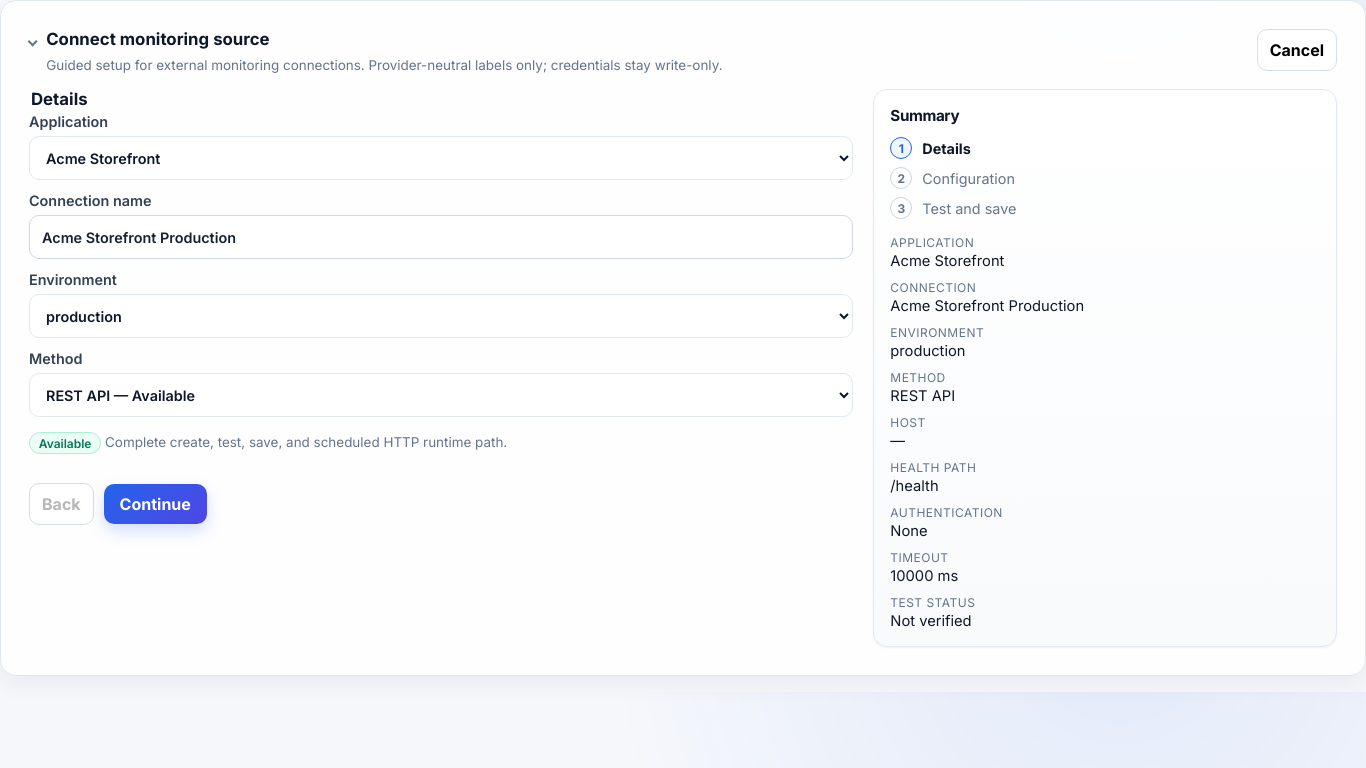
Test case: ConnectionWizard › shows REST fields on configuration and keeps advanced details collapsed
Expected: the element with test id "connection-step-details" is shown, [29, 89, 853, 467]
Click the button "Continue". click: (155,504)
box: [104, 484, 207, 524]
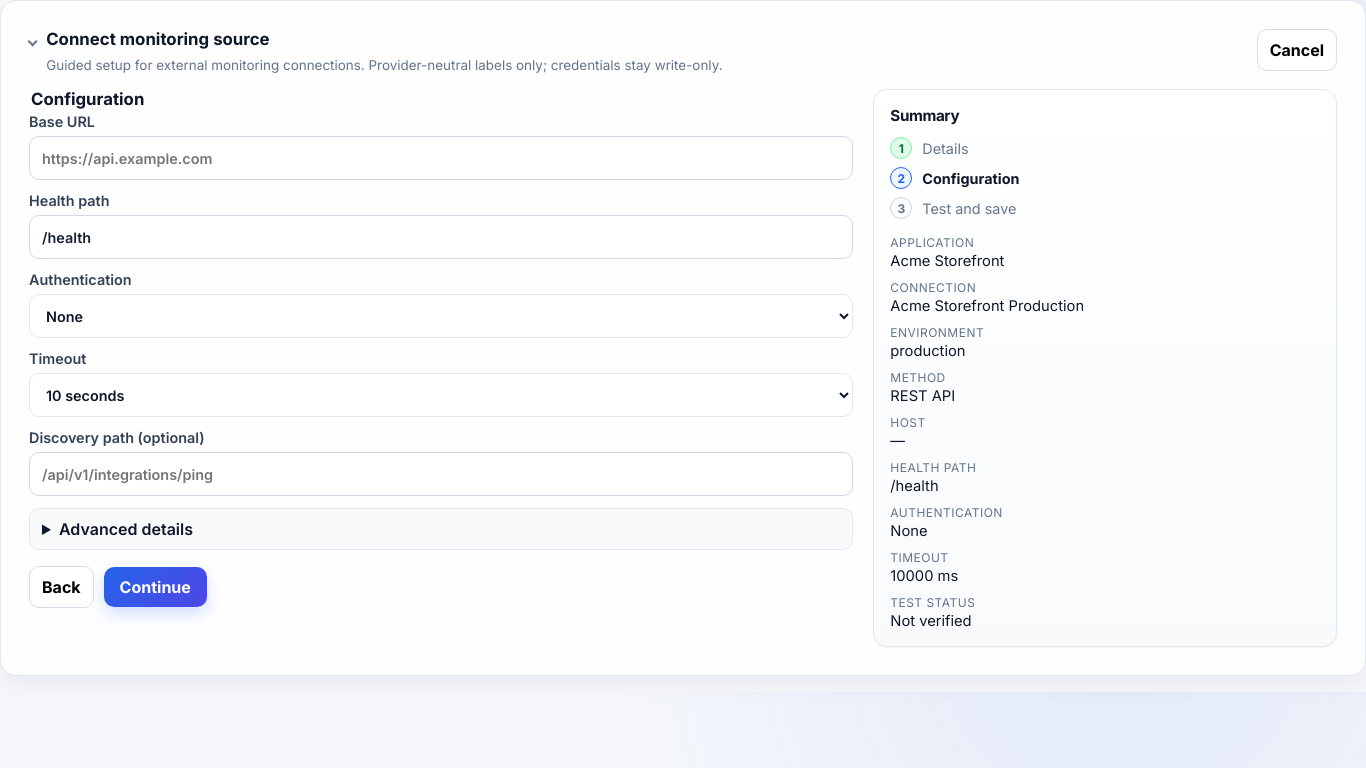
Expected: the element with test id "connection-step-configuration" is shown, [29, 89, 853, 550]
Expected: the field with test id "connection-base-url" is shown, [29, 136, 853, 180]
Expected: the field with test id "connection-health-path" is shown, [29, 215, 853, 259]
